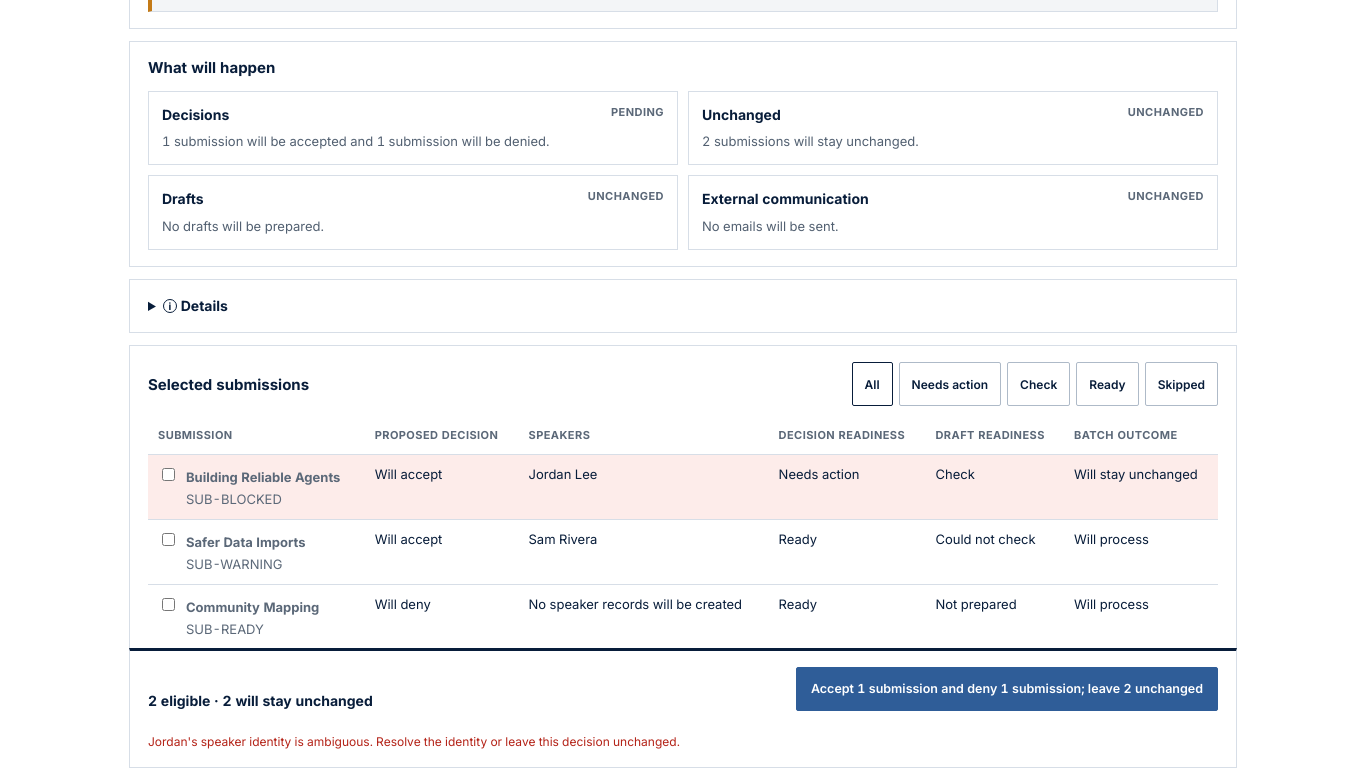
Scenario: decision exception review › prioritizes classified exceptions, keeps consequences visible, and filters selected submissions
(page scrolled)
Expected: the heading "i Details" is shown, [163,297,228,314]
Expected: the column heading "Proposed decision" is shown, [365,418,519,455]
Click the button "Ready" at (1107, 384), box [1076,362,1139,406]
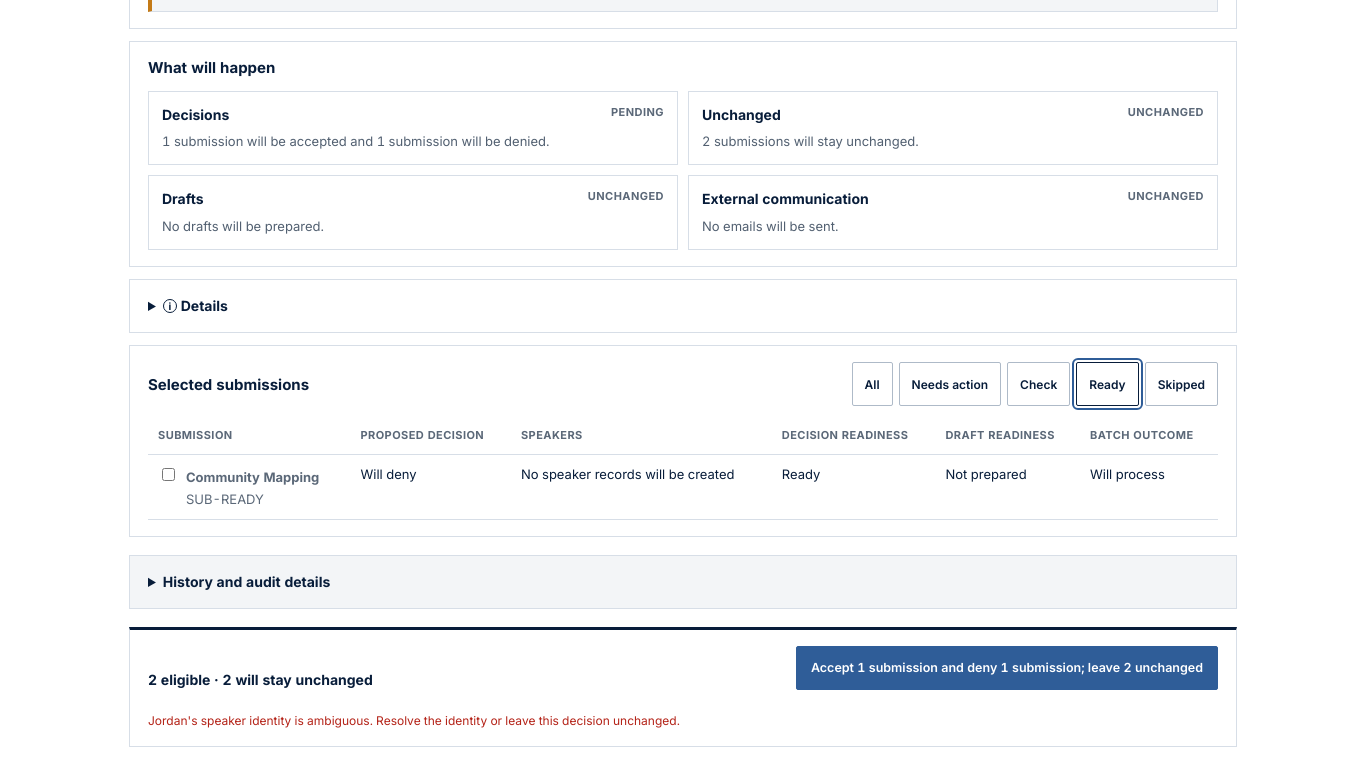
Expected: the text "Community Mapping" is shown, [186,469,319,485]
Expected: the text "Building Reliable Agents" is not shown
Click the button "Skipped" at (1181, 384), box [1145,362,1218,406]
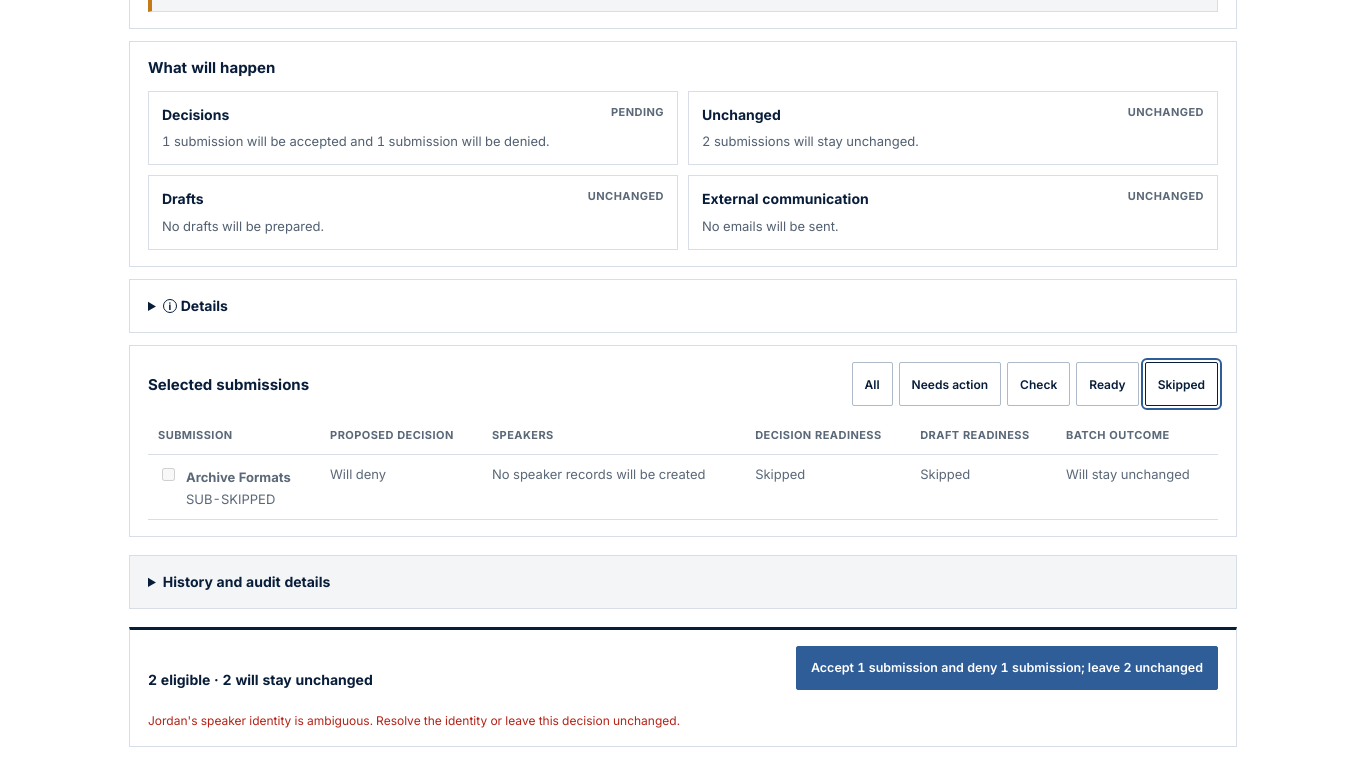
Result: the text "Archive Formats" is shown at [186,469,291,485]
